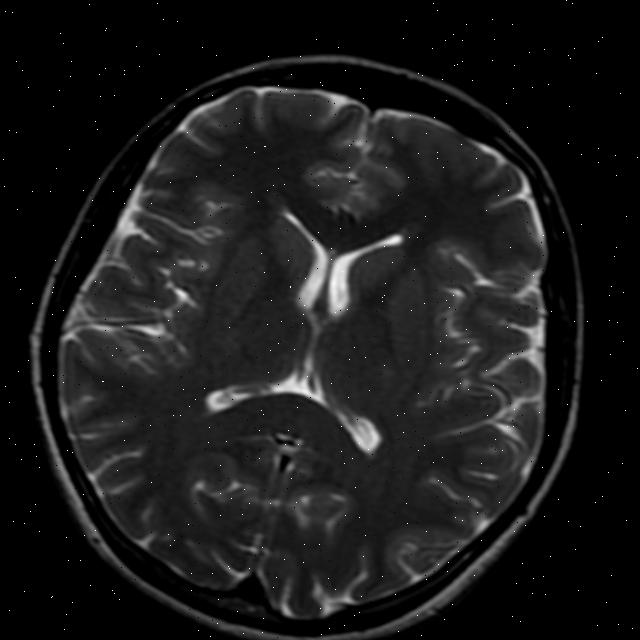NoTumor: (0, 0, 634, 640)
